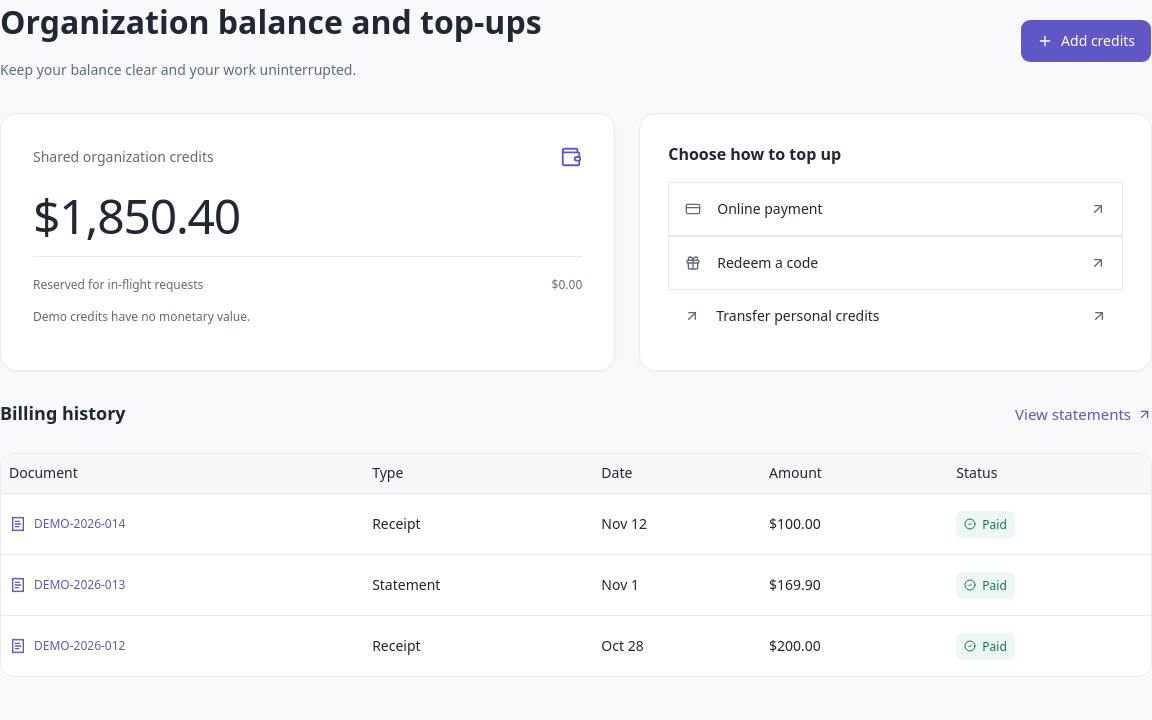
Scenario: Demo wallet state › transferring more than the personal sample balance shows a field error
The width and height of the screenshot is (1152, 720).
Expected: the heading "Organization balance and top-ups" is shown, [0,0,542,45]
Click the button "Transfer personal credits". click: (798, 315)
box: [668,290,1123,342]
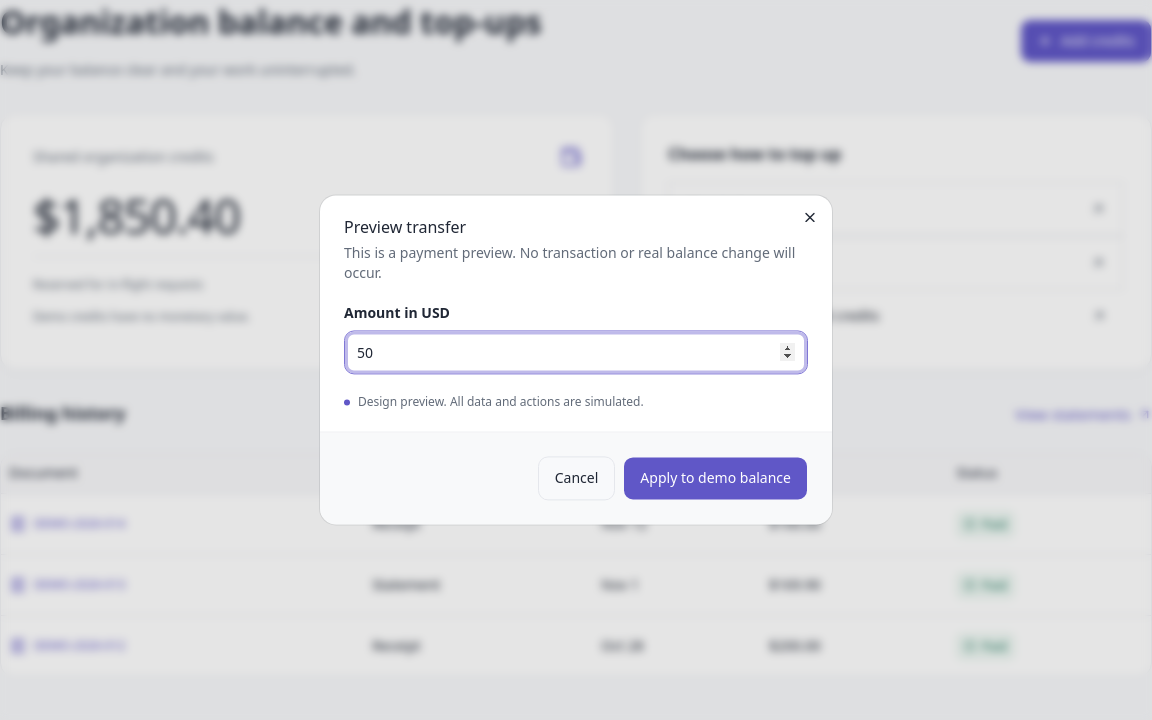
Replace the text in the number field labelled "Amount in USD" with "500". click: (576, 352)
box: [344,330,808,374]
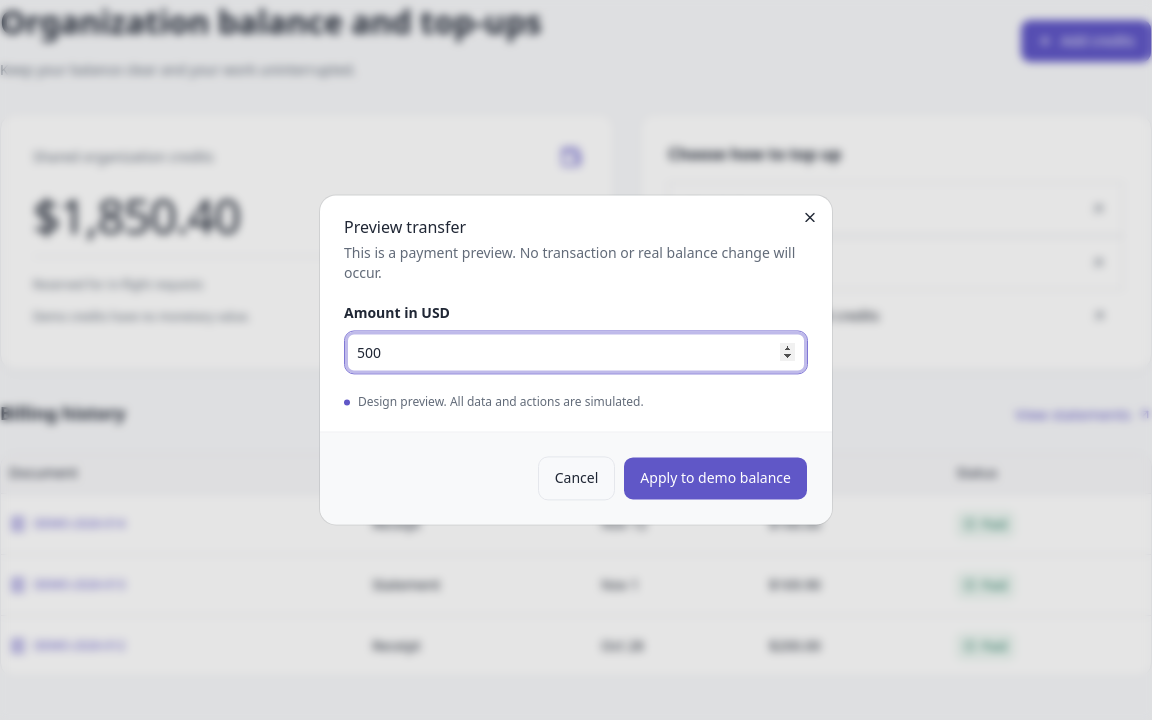
Click the button "Apply to demo balance". click: (716, 479)
box: [623,457,808,501]
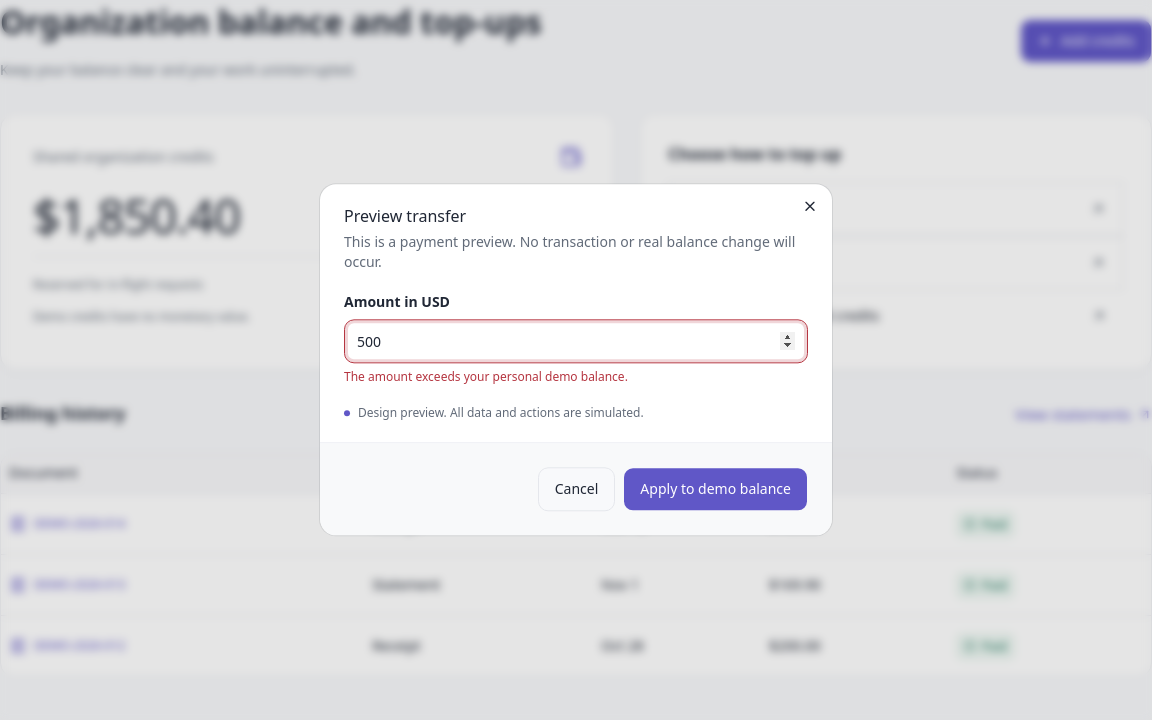
Result: the dialog is shown at [320,184,832,536]
Result: the message reads "The amount exceeds your personal demo balance." at [344,368,628,385]
